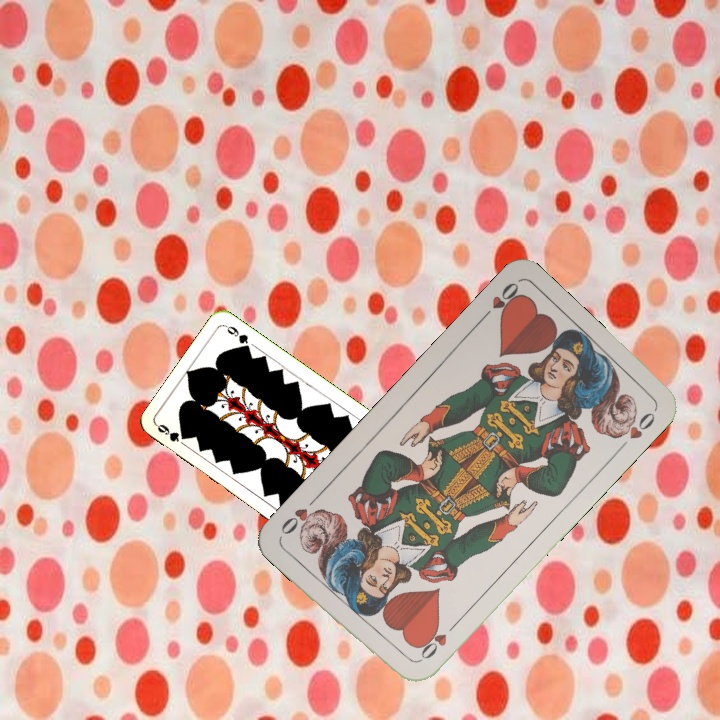G9: (152, 420, 190, 444)
HO: (475, 278, 524, 325), (412, 619, 459, 665)
